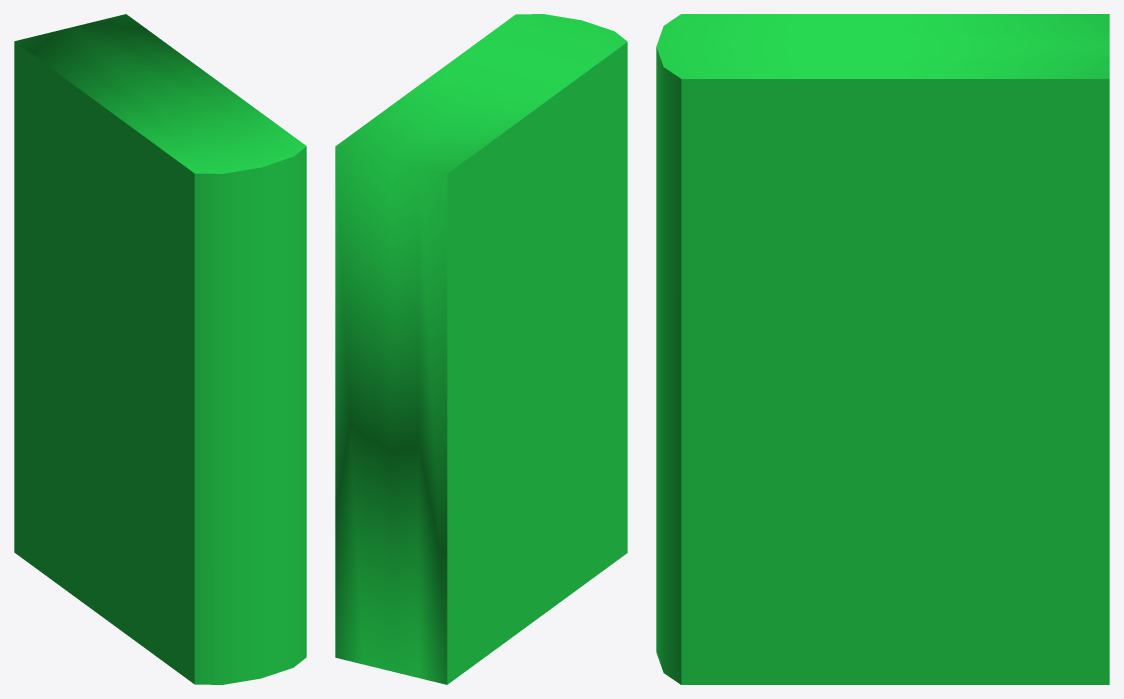
The model's file is Book03.fbx.
3 views of the same model, side by side, from view 1: azimuth 30°, elevation 25°; view 2: azimuth 150°, elevation 25°; view 3: azimuth 270°, elevation 25° (orthographic). The views are drawn at different scales.
Parts seen in each view (by area): view 1: Book-03; view 2: Book-03; view 3: Book-03.
Part boxes in pixels (bbox=[...]): Book-03: bbox=[14, 14, 306, 684]; Book-03: bbox=[335, 14, 627, 684]; Book-03: bbox=[656, 14, 1109, 684].
Size of the model in its own units: 6 by 17.72 by 26.15.
